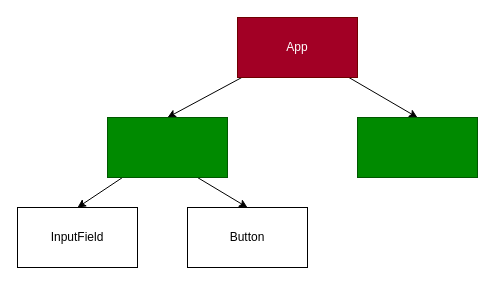
Image size: 495x285. Some labels were removed from this diagram. Here are the shapes that lost their labels. From the top down, the centre of each, then its label:
the point at 167,147: SearchBar
the point at 417,147: ResultsCard
